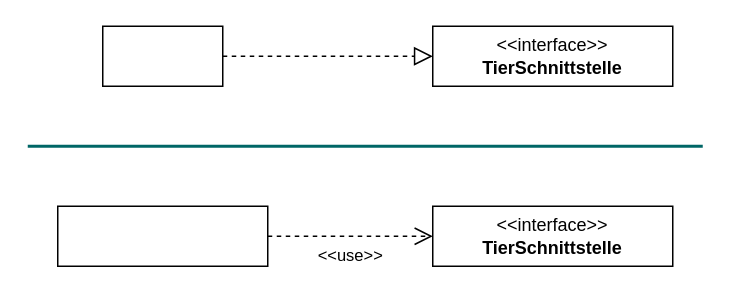
The diagram is 731 pixels wide and 293 high, and some of its shapes have lost their labels. The centre of each missing label's shape, as x and y in pixels:
"MaskeTiererfassung" belongs at point 162,235.
"Tier" belongs at point 162,55.
